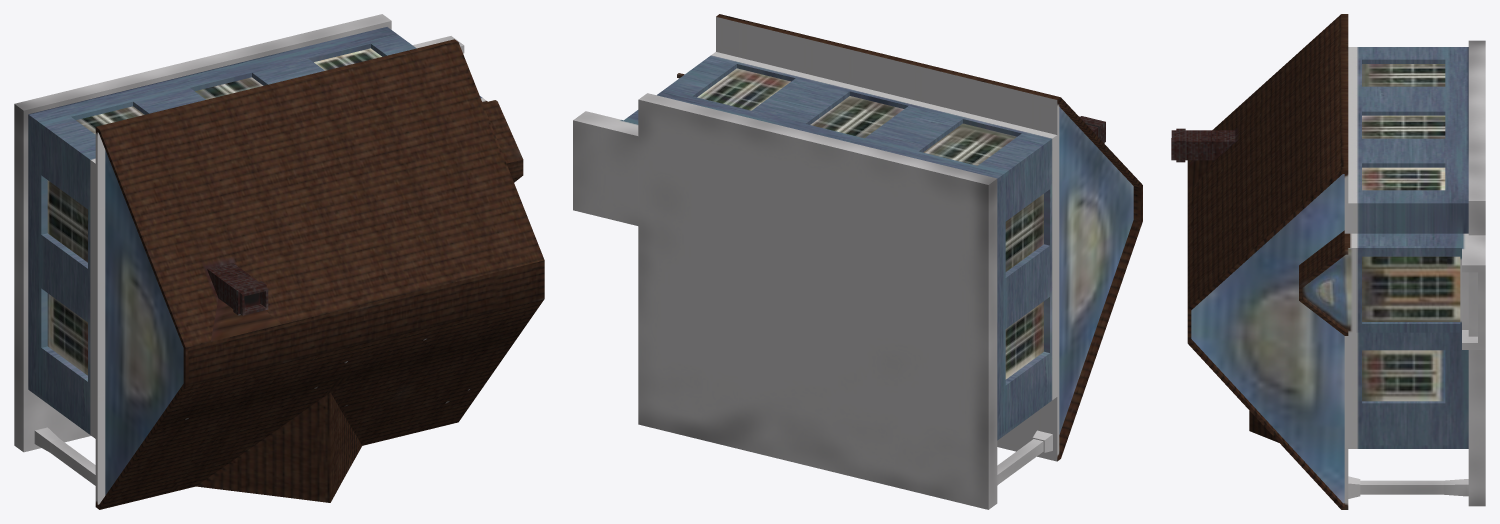
Rendered from 10084_Small Home_V3_Iteration0.obj.
3 renders of one model, left to right at view 1: azimuth 30°, elevation 25°; view 2: azimuth 150°, elevation 25°; view 3: azimuth 270°, elevation 25°, orthographic. The views are drawn at different scales.
Visible parts, largest first — view 1: 10084_Small_Home_V1_Max2008; view 2: 10084_Small_Home_V1_Max2008; view 3: 10084_Small_Home_V1_Max2008.
Boxes of the visible parts, box(x1,y1,x2,y2) form: 10084_Small_Home_V1_Max2008: box(14, 14, 544, 509); 10084_Small_Home_V1_Max2008: box(573, 14, 1142, 509); 10084_Small_Home_V1_Max2008: box(1171, 14, 1485, 509).
Bounding box in the file's own units: 966 × 803 × 673.
Materials: 1 (1 with a texture image).
